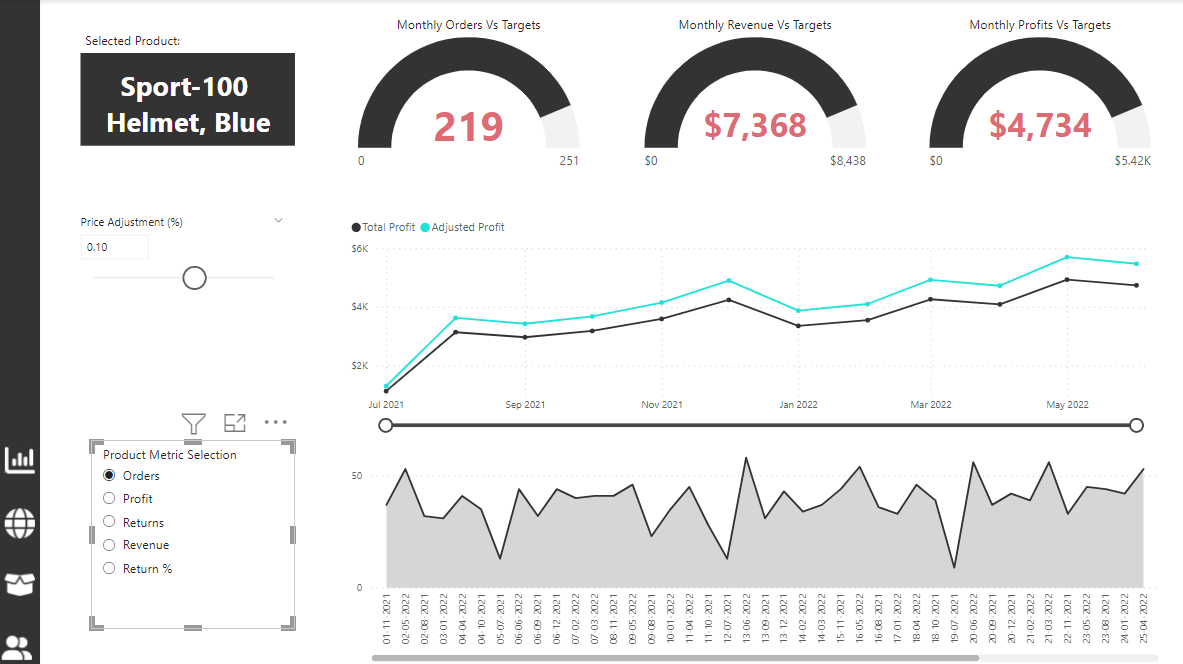

This screenshot's page, from the dashboard's own definition file:
{"tool":"powerbi","page":{"name":"Product Detail","canvas":[1280,720],"ordinal":2},"visuals":[{"type":"shape","box":[0,0,45,720.4],"z":0},{"type":"actionButton","box":[3.8,477.3,45.3,40.4],"z":0,"group":"g1"},{"type":"gauge","title":"Monthly Orders Vs Targets","fields":{"Y":["Measure Table.Total Orders"],"MaxValue":["Measure Table.Order Target"]},"box":[376.1,17,264.6,175.7],"z":1000},{"type":"actionButton","box":[3.8,544.7,45.3,40.4],"z":1000,"group":"g1"},{"type":"gauge","title":"Monthly Profits Vs Targets","fields":{"Y":["Measure Table.Total Profit"],"MaxValue":["Measure Table.Profit Targets"]},"box":[992.1,17,264.6,175.7],"z":2000},{"type":"actionButton","box":[3.8,612.1,45.3,40.4],"z":2000,"group":"g1"},{"type":"gauge","title":"Monthly Revenue Vs Targets","fields":{"Y":["Measure Table.Total Revenue"],"MaxValue":["Measure Table.Revenue Target"]},"box":[684.1,17,264.6,175.7],"z":3000},{"type":"actionButton","box":[0,679.5,76,40.4],"z":3000,"group":"g1"},{"type":"lineChart","title":"Profit Trending","fields":{"Category":["Calendar Lookup.Date Hierarchy.Start of Year","Calendar Lookup.Date Hierarchy.Start of Month","Calendar Lookup.Date Hierarchy.Start of Week","Calendar Lookup.Date Hierarchy.Date"],"Y":["Measure Table.Total Profit","Measure Table.Adjusted Profit"]},"box":[375.4,226.5,881.8,244.3],"z":4000},{"type":"areaChart","title":"Return Trending","fields":{"Category":["Calendar Lookup.Date Hierarchy.Start of Year","Calendar Lookup.Date Hierarchy.Start of Month","Calendar Lookup.Date Hierarchy.Start of Week","Calendar Lookup.Date Hierarchy.Date"],"Y":["Measure Table.Return Rate"]},"box":[375.4,475.7,881.8,244.3],"z":5000},{"type":"card","fields":{"Values":["Min(Product Lookup.ProductName)"]},"box":[89,58.2,231.4,100.3],"z":6000},{"type":"textbox","box":[89,29.1,139.1,29.1],"z":7000},{"type":"group","id":"g1","title":"Navigation Buttons","box":[0,477.3,76,242.7],"z":8000},{"type":"slicer","fields":{"Values":["Price Adjustment (%).Price Adjustment (%)"]},"box":[76,226.5,244.3,134.3],"z":9000},{"type":"slicer","fields":{"Values":["Product Metric Selection.Product Metric Selection"]},"box":[100.3,475.7,220,203.9],"z":10000}]}

Visuals, with their boxes on the page's 1280x720 design canvas (x1, y1, x2, y2). These are canvas units, not pixel positions in the 1183x664 screenshot, which may show the page scaled, cropped or inside an application window:
shape: <region>0, 0, 45, 720</region>
actionButton: <region>4, 477, 49, 518</region>
"Monthly Orders Vs Targets" gauge: <region>376, 17, 641, 193</region>
actionButton: <region>4, 545, 49, 585</region>
"Monthly Profits Vs Targets" gauge: <region>992, 17, 1257, 193</region>
actionButton: <region>4, 612, 49, 652</region>
"Monthly Revenue Vs Targets" gauge: <region>684, 17, 949, 193</region>
actionButton: <region>0, 680, 76, 720</region>
"Profit Trending" lineChart: <region>375, 226, 1257, 471</region>
"Return Trending" areaChart: <region>375, 476, 1257, 720</region>
card - Min(Product Lookup.ProductName): <region>89, 58, 320, 158</region>
textbox: <region>89, 29, 228, 58</region>
"Navigation Buttons" group: <region>0, 477, 76, 720</region>
slicer - Price Adjustment (%).Price Adjustment (%): <region>76, 226, 320, 361</region>
slicer - Product Metric Selection.Product Metric Selection: <region>100, 476, 320, 680</region>
